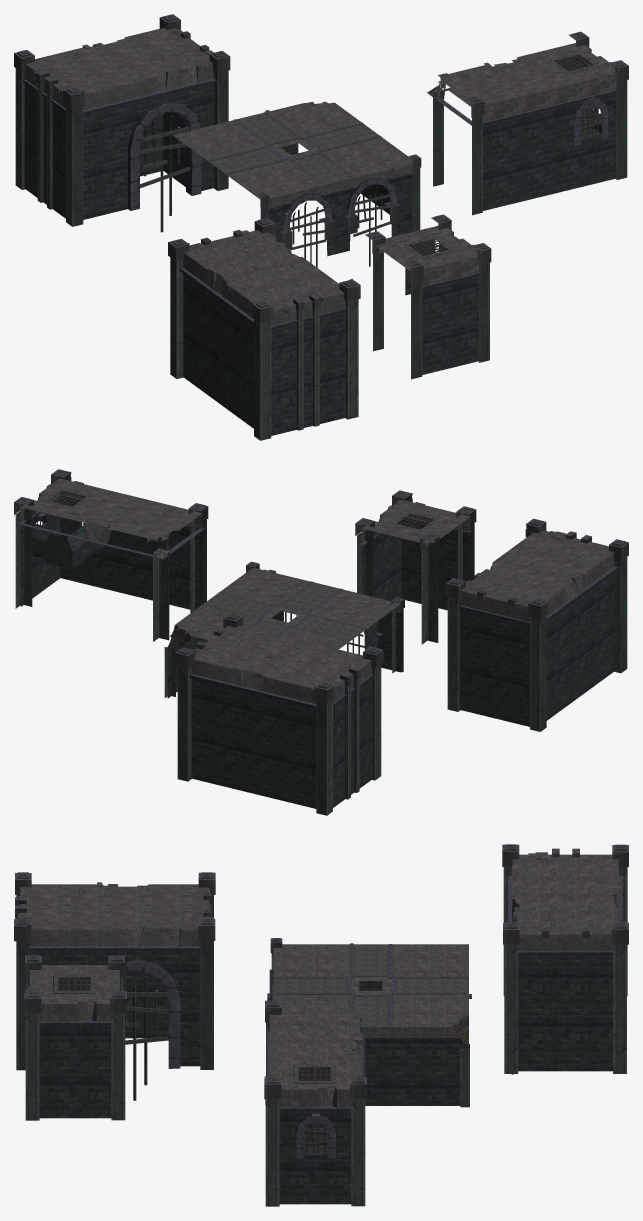
Rendered from building_section02_guanka10C25.FBX.
The picture shows the model from 3 angles, top to bottom: view 1: azimuth 30°, elevation 25°; view 2: azimuth 150°, elevation 25°; view 3: azimuth 270°, elevation 25°; orthographic projection. The views are drawn at different scales.
Visible parts, largest first — view 1: building_section02_guanka10C25; view 2: building_section02_guanka10C25; view 3: building_section02_guanka10C25.
Part boxes in pixels (bbox=[...]): building_section02_guanka10C25: bbox=[14, 14, 628, 440]; building_section02_guanka10C25: bbox=[14, 469, 628, 815]; building_section02_guanka10C25: bbox=[14, 844, 628, 1206].
Bounding box in the file's own units: 101 × 41.28 × 102.
